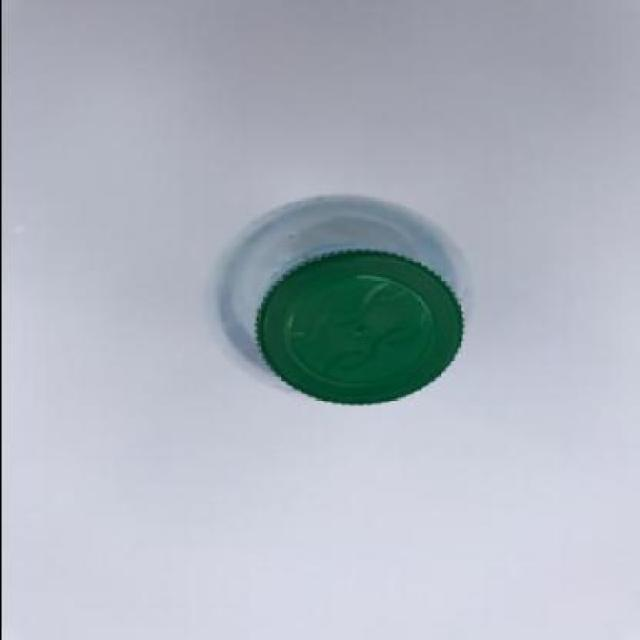PLASTIC: (218, 197, 474, 406), (260, 250, 466, 407)
